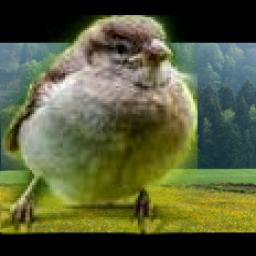Sparrow: (1, 15, 198, 234)
